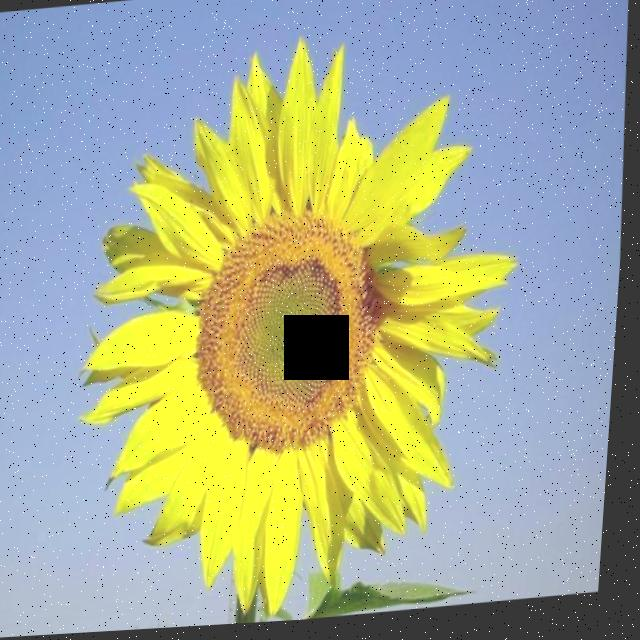sunflower: (43, 0, 536, 624)
